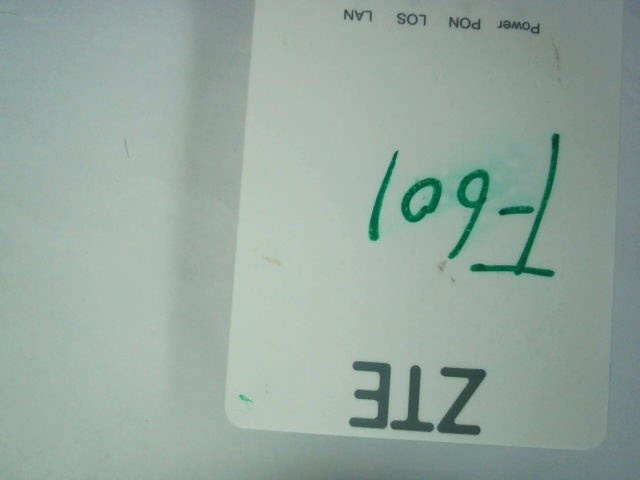AN_ZTE: (351, 353, 488, 435)
